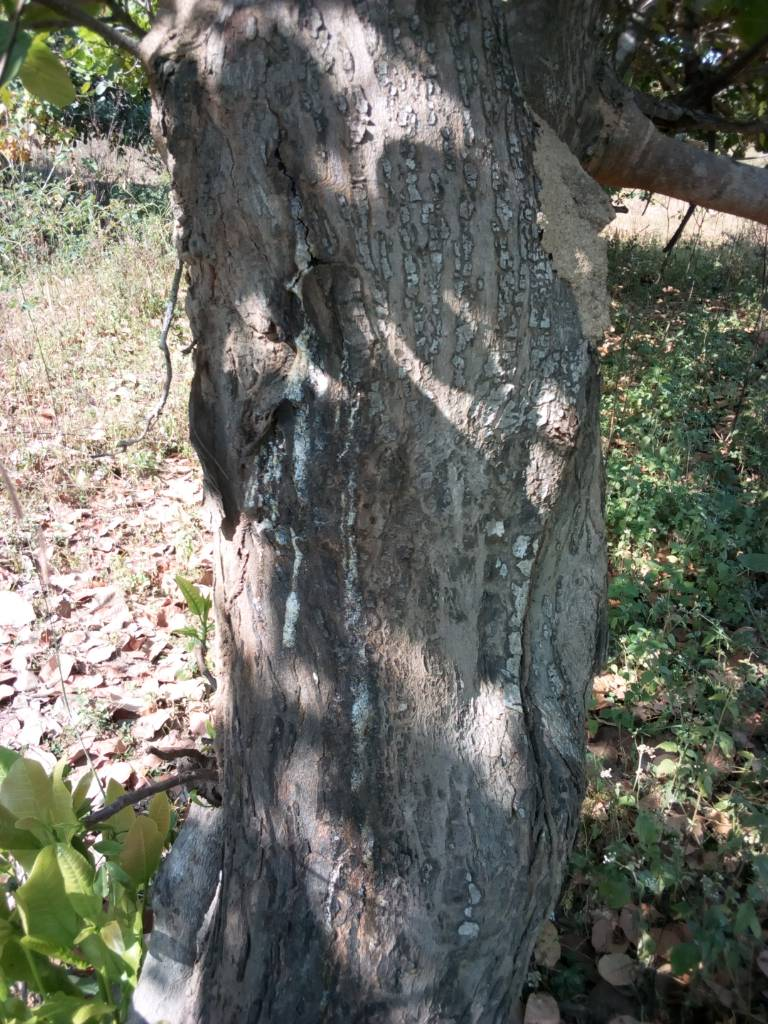Termites: (218, 271, 522, 1024)
